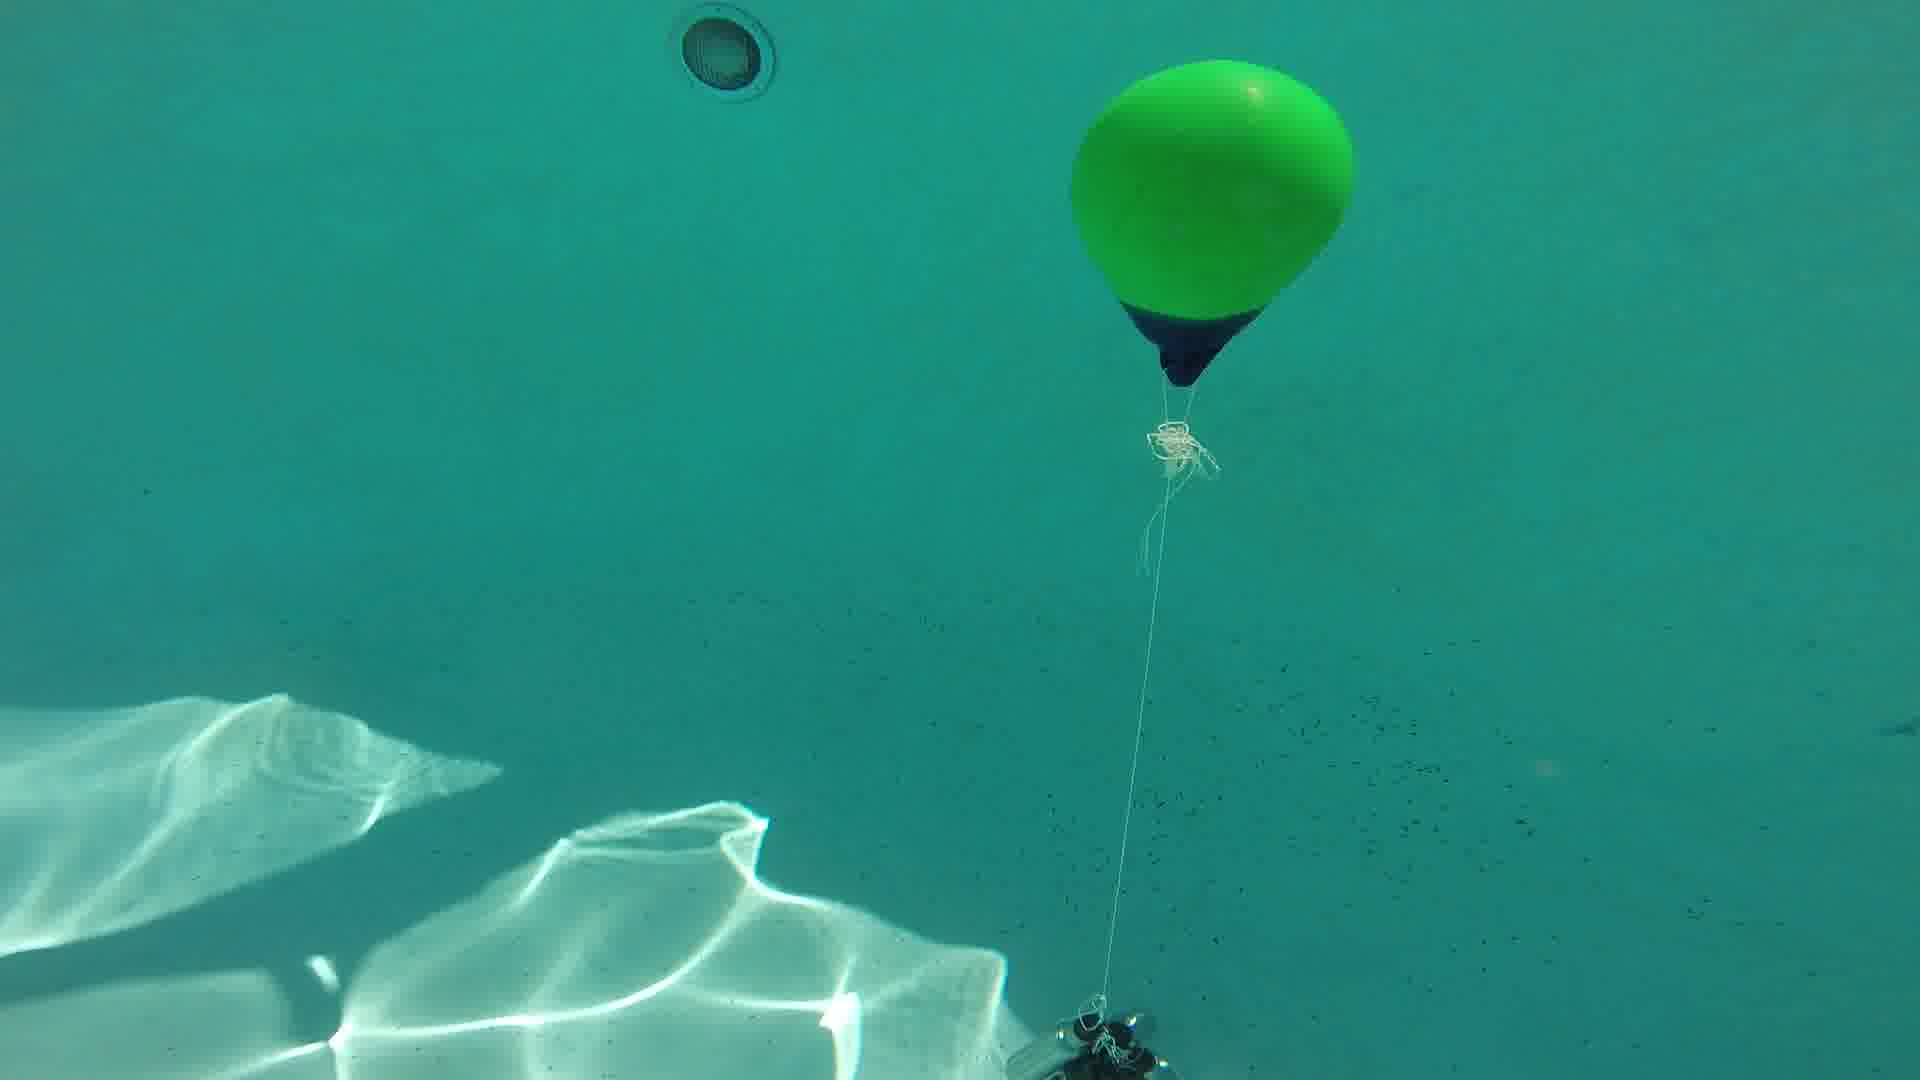yellow_buoy: (1055, 61, 1364, 389)
